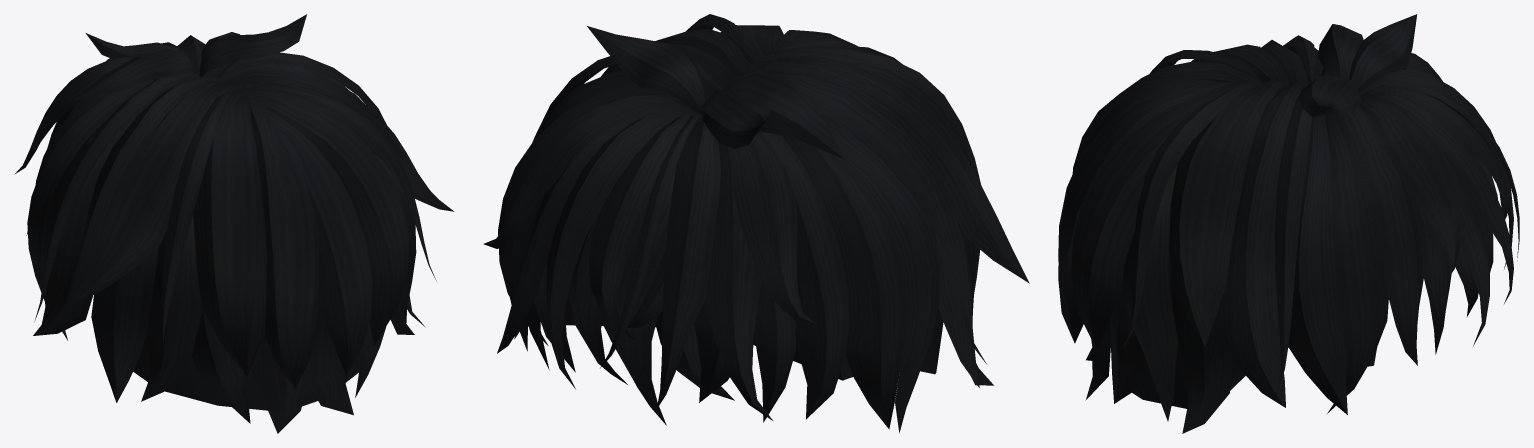
3 renders of one model, left to right at view 1: azimuth 30°, elevation 25°; view 2: azimuth 150°, elevation 25°; view 3: azimuth 270°, elevation 25°, orthographic. The views are drawn at different scales.
Visible parts, largest first — view 1: geometry_0; view 2: geometry_0; view 3: geometry_0.
Boxes of the visible parts, box(x1,y1,x2,y2) form: geometry_0: box(14, 14, 454, 433); geometry_0: box(483, 14, 1029, 433); geometry_0: box(1058, 14, 1519, 433).
Bounding box in the file's own units: 1.72 × 1.28 × 1.64.
1 material, 1 textured.
